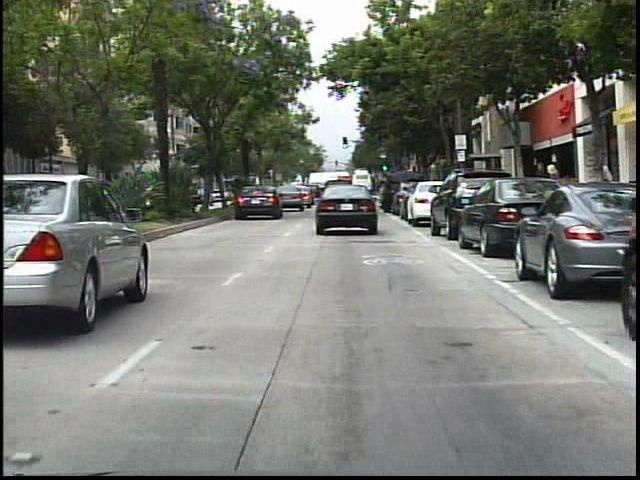person: (525, 158, 551, 222), (537, 160, 564, 219), (588, 152, 611, 218)
